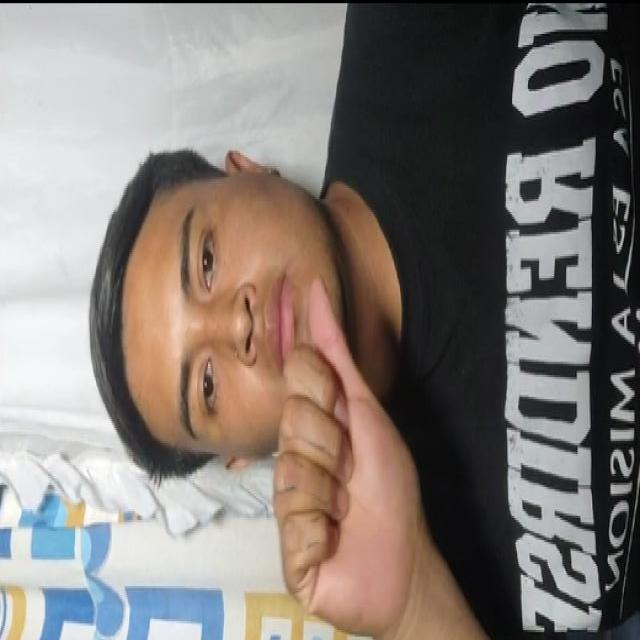A: (248, 286, 431, 622)
